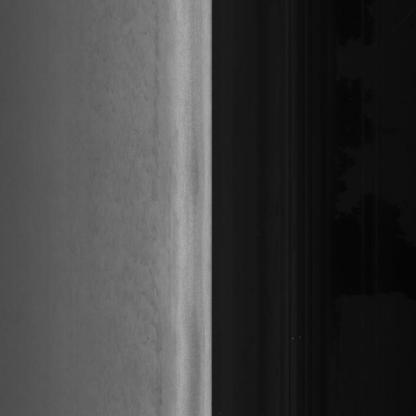silk_spot: (116, 238, 173, 350)
